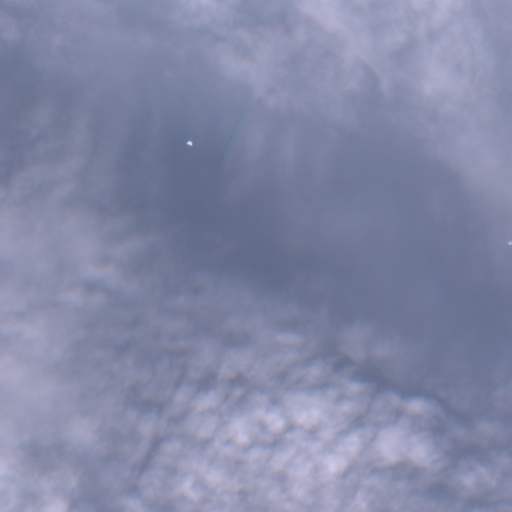Iceberg: (187, 141, 192, 145), (508, 241, 511, 244)
